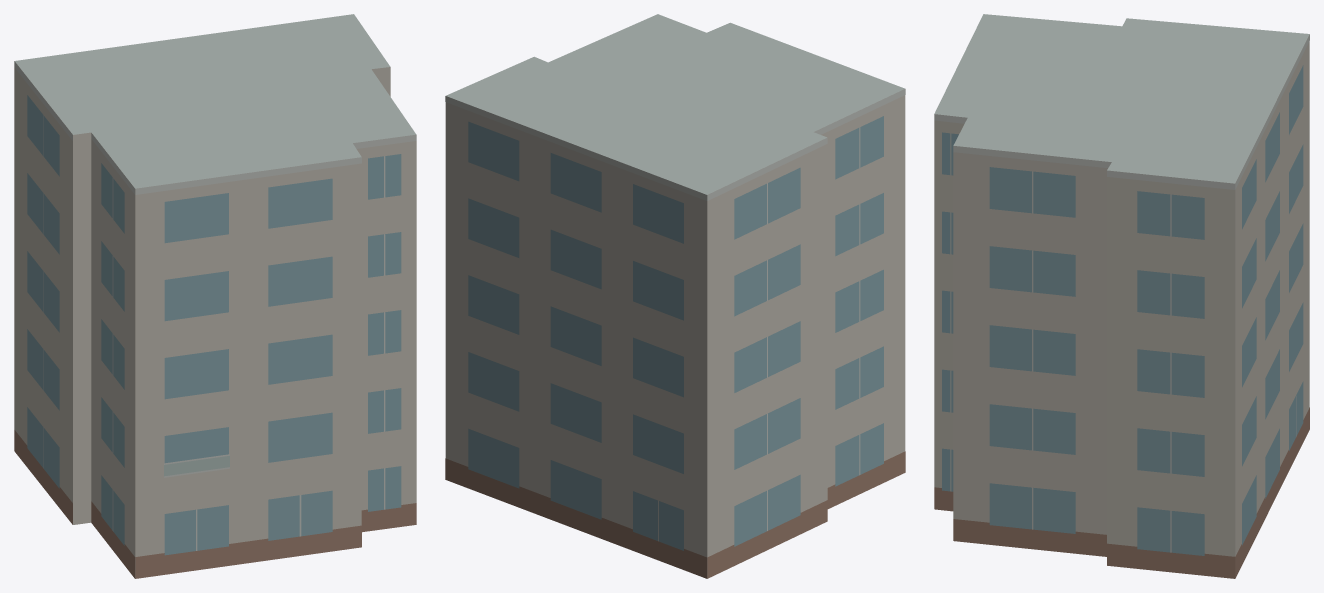
File: survey-upis-32664848.glb
3 views of the same model, side by side, from view 1: azimuth 30°, elevation 25°; view 2: azimuth 150°, elevation 25°; view 3: azimuth 270°, elevation 25° (orthographic). The views are drawn at different scales.
Parts seen in each view (by area): view 1: survey-upis-32664848.tmp; view 2: survey-upis-32664848.tmp; view 3: survey-upis-32664848.tmp.
Part boxes in pixels (left/top/right/bottom): survey-upis-32664848.tmp: left=14, top=14, right=416, bottom=578; survey-upis-32664848.tmp: left=445, top=14, right=905, bottom=578; survey-upis-32664848.tmp: left=934, top=14, right=1309, bottom=578.
Bounding box in the file's own units: 13.86 × 15.05 × 12.97.
